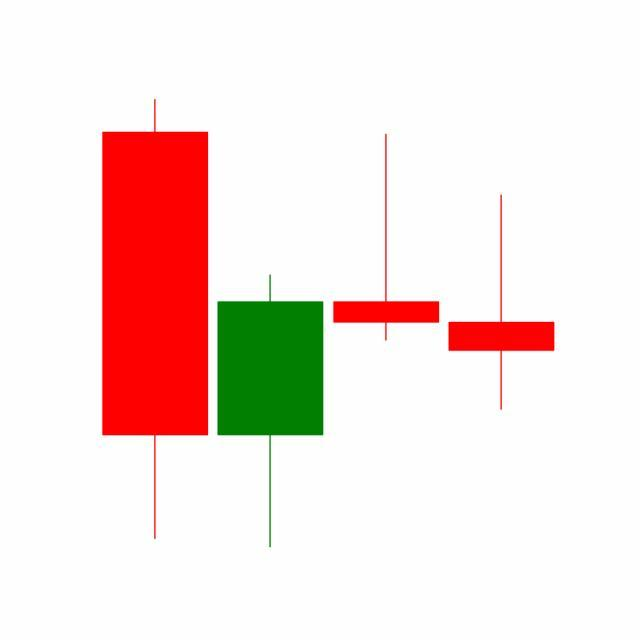Gravestone Doji: (329, 132, 445, 344)
